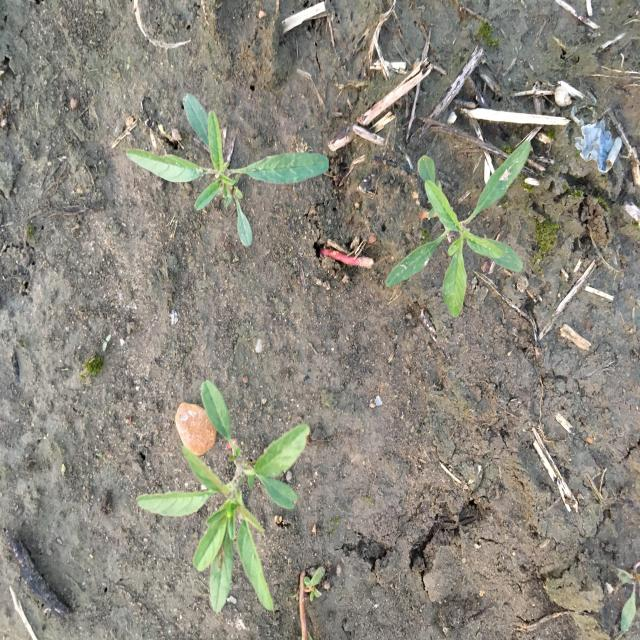Waterhemp: (134, 377, 311, 614), (125, 92, 330, 248), (384, 138, 532, 320)
